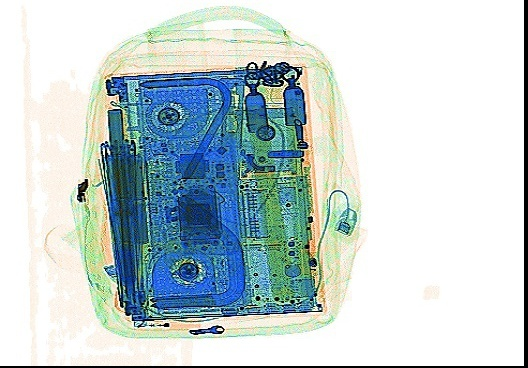lighter: (129, 318, 203, 333)
